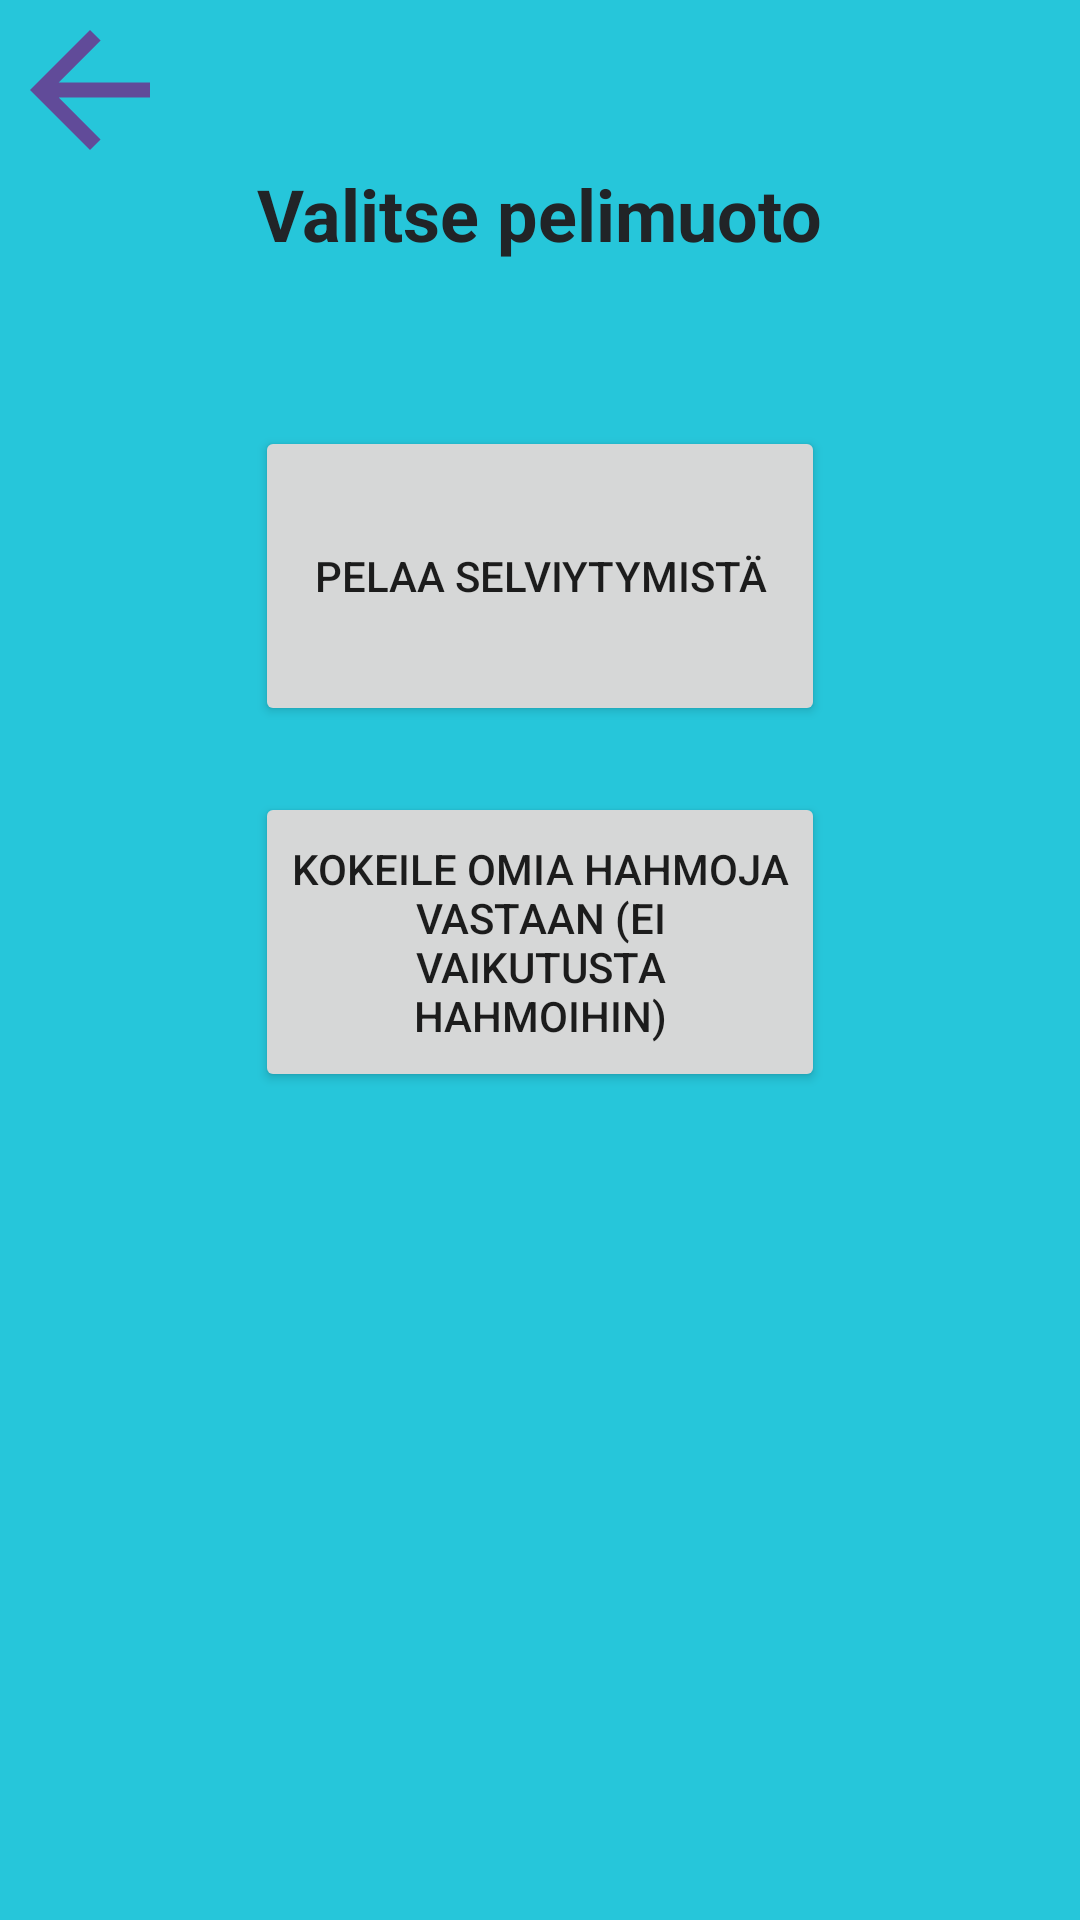

Screen size 1080w x 1920h. Icon name, then its center in pixels as (x,y):
arrow back: (90,90)
